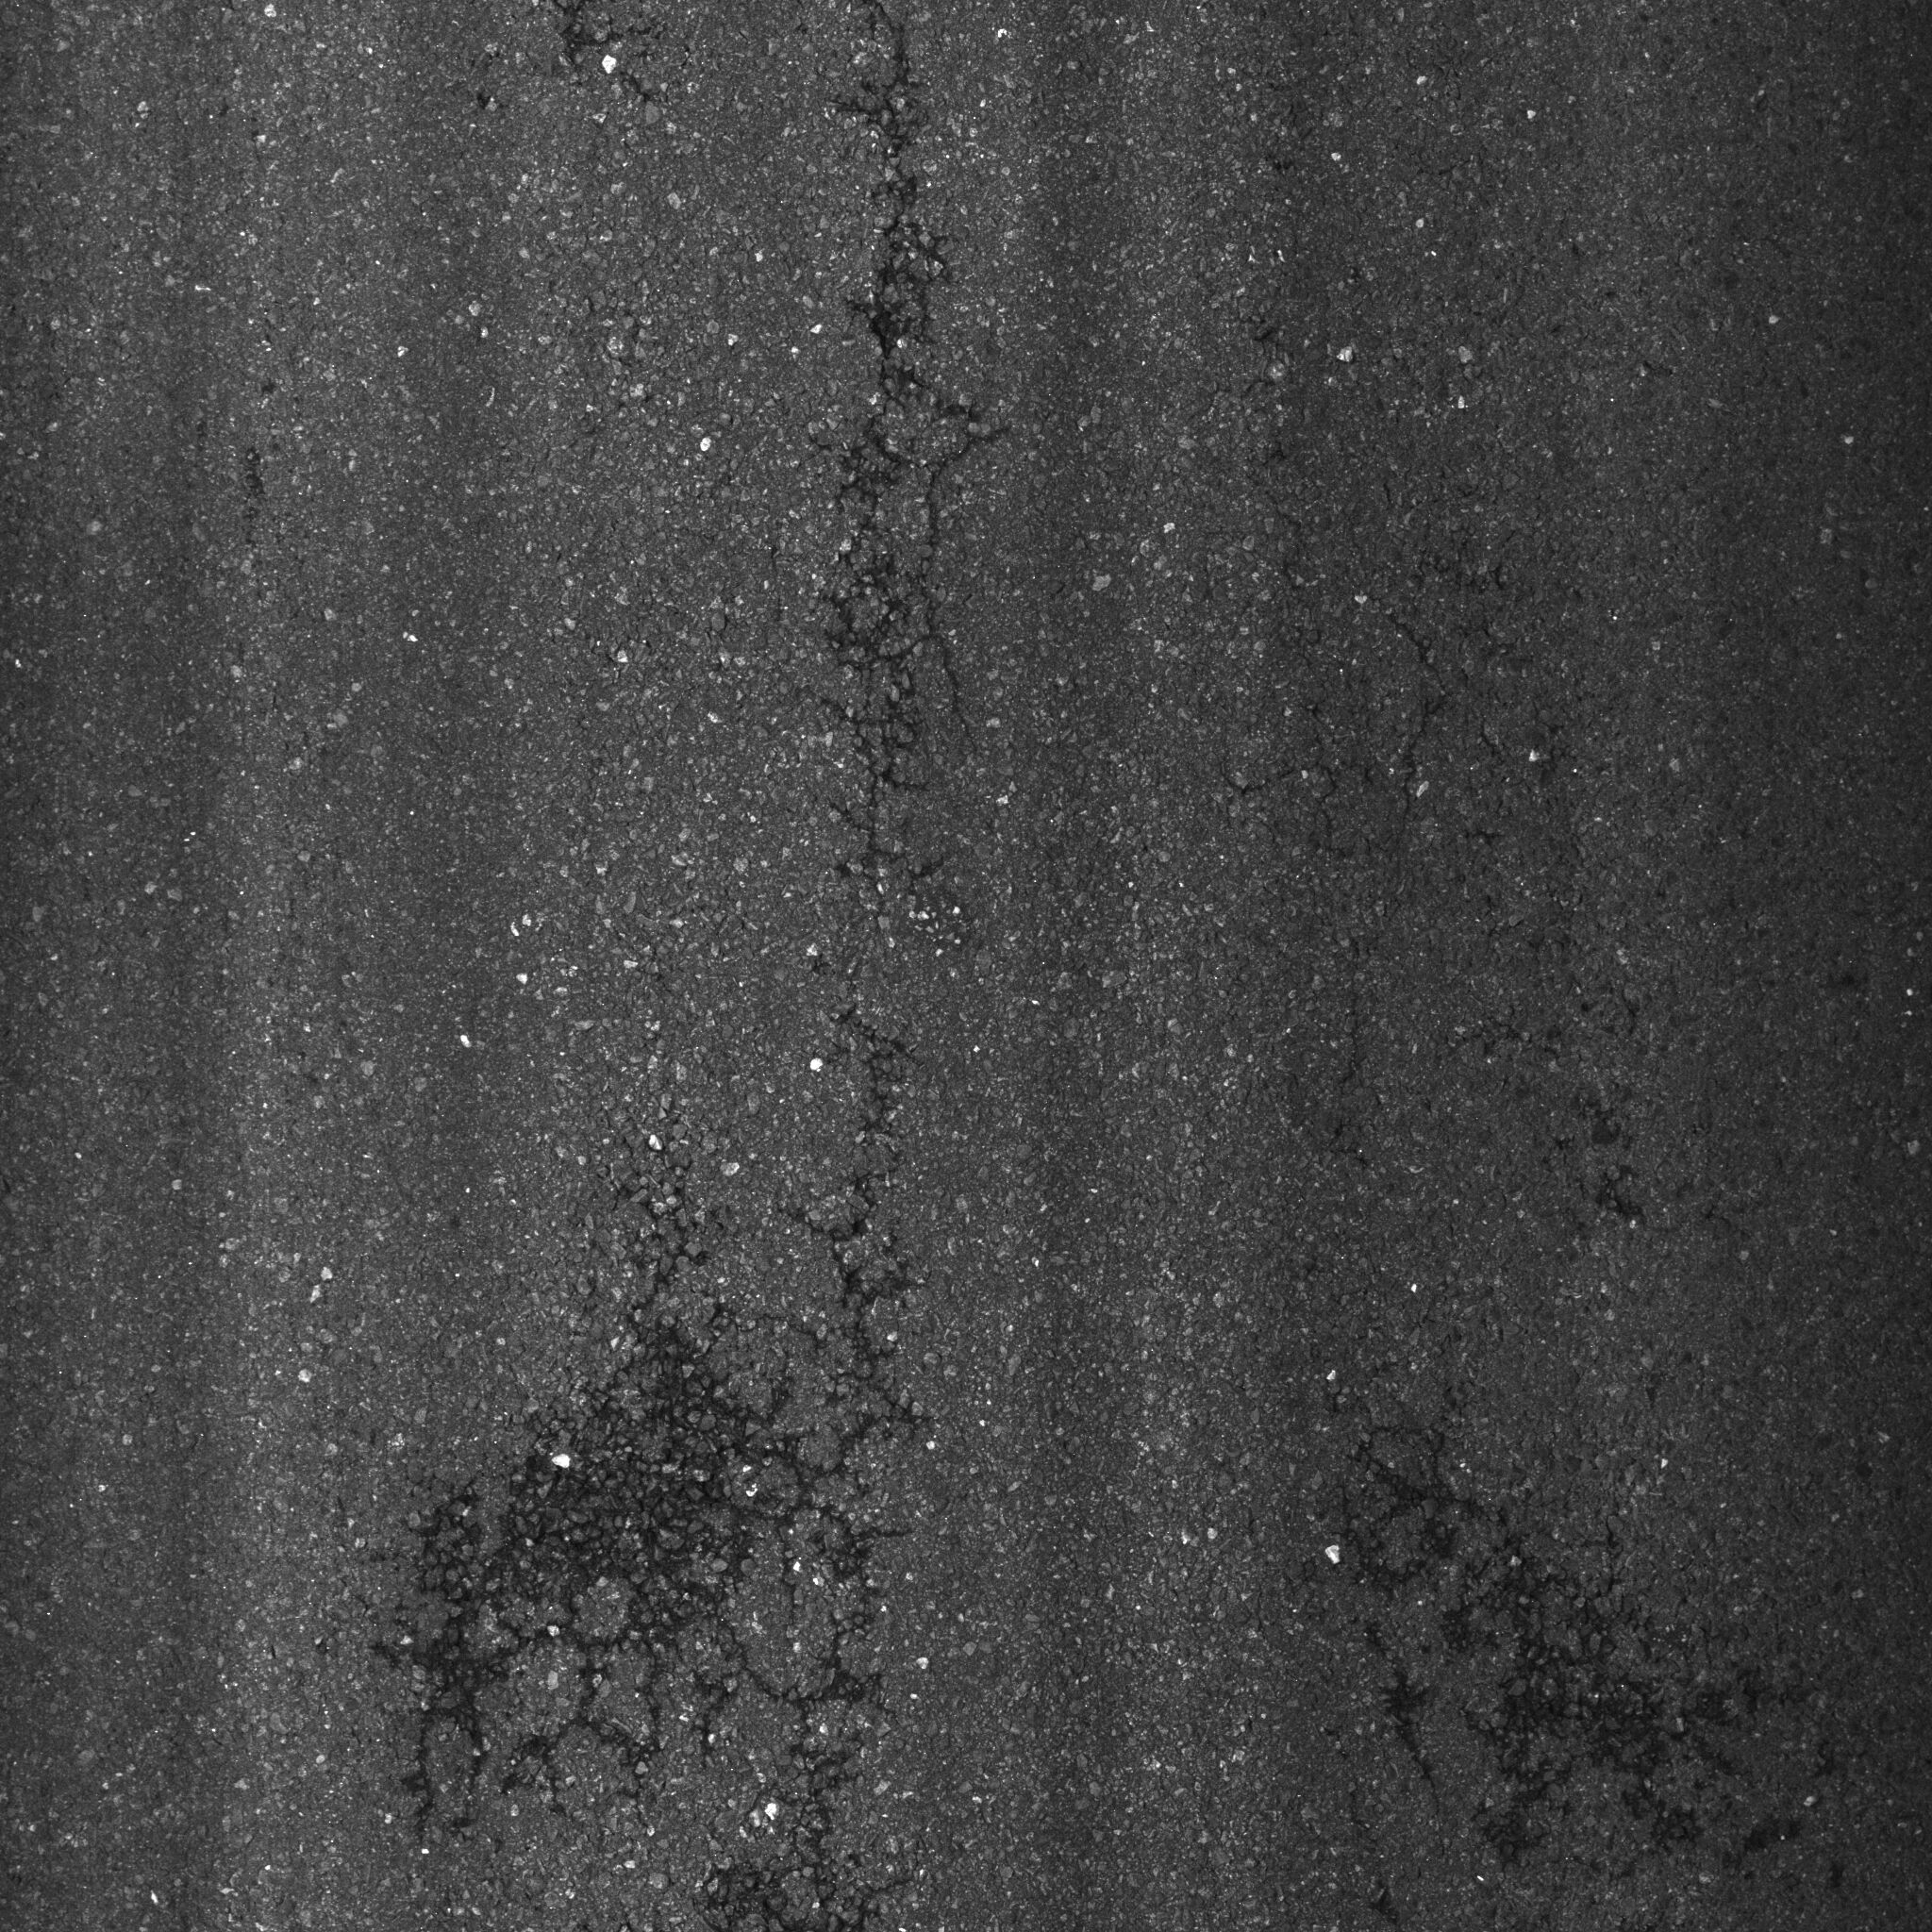alligator: (326, 34, 1017, 1902), (1249, 1361, 1879, 1932)
